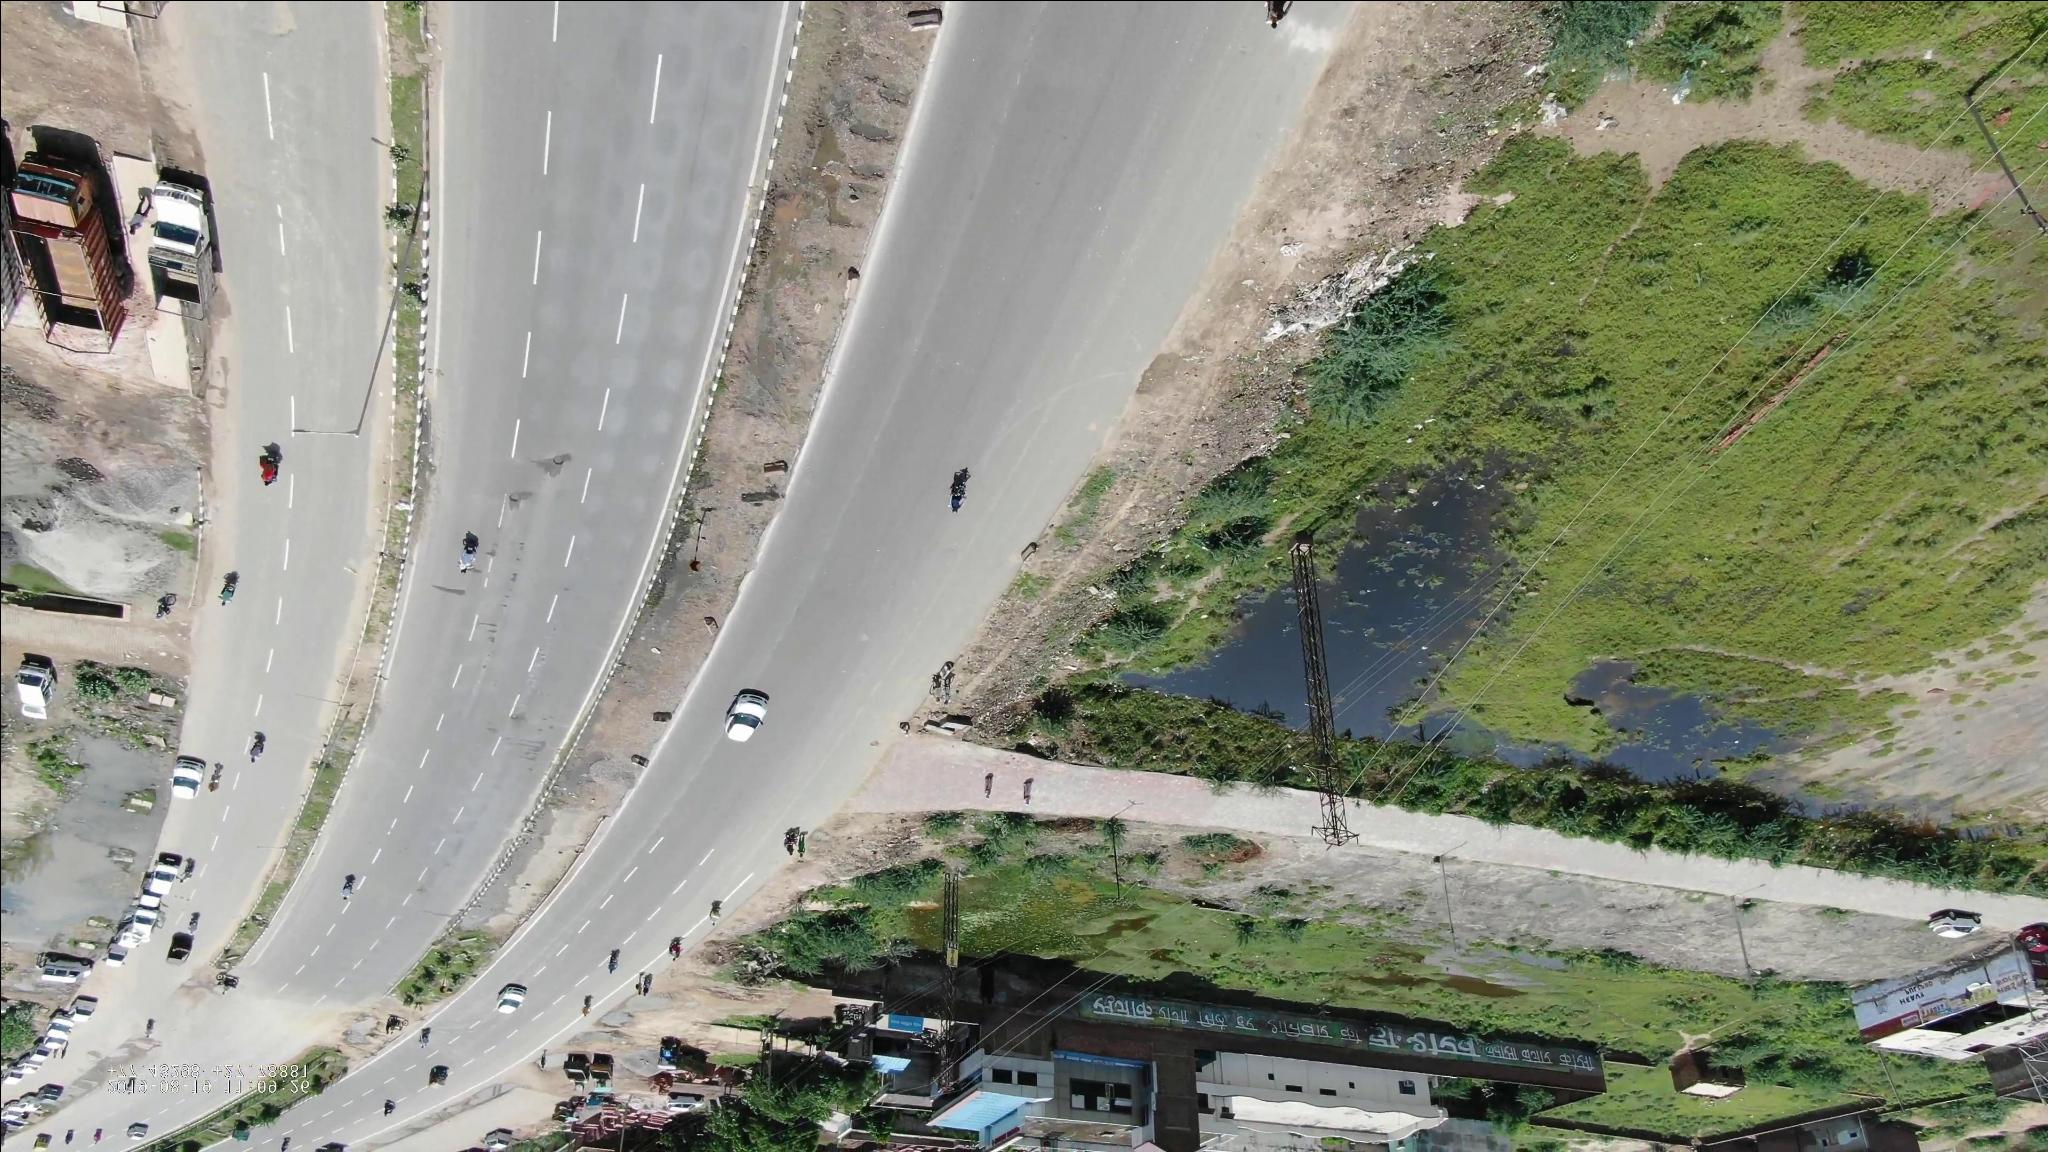Potholes: (498, 442, 578, 513)
